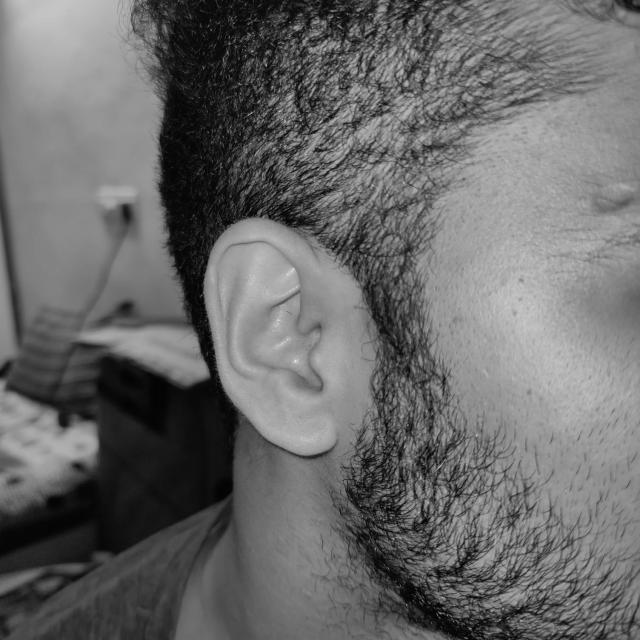ear: (203, 218, 374, 456)
